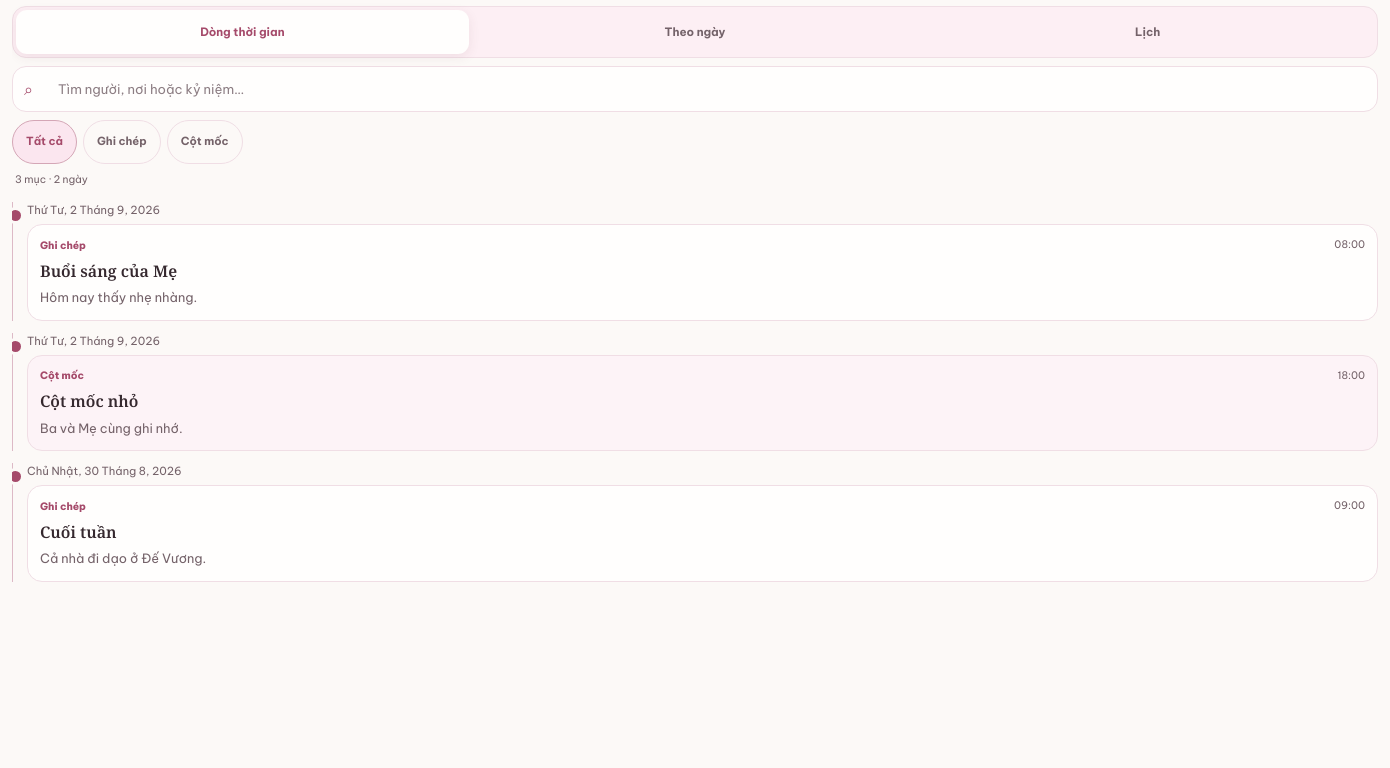
Test case: mobile journal browser › finds Vietnamese journal text and filters milestones without leaving the page
Expected: the text "3 mục · 2 ngày" is shown, [15,173,88,186]
Type "cuoi tuan" into the search field named "Tìm trong nhật ký".
click(716, 89); type("cuoi tuan")  # box [54,67,1377,111]
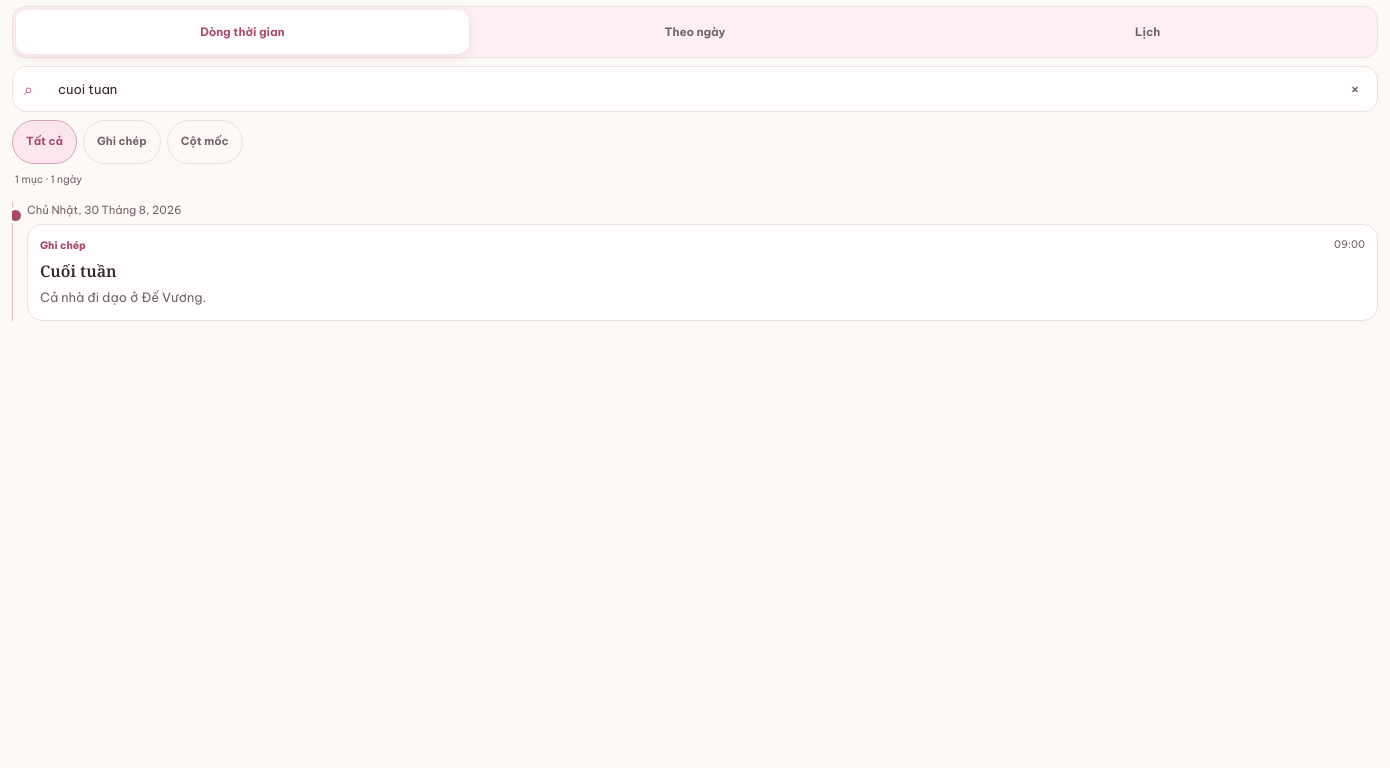
Expected: the text "Cuối tuần" is shown, [40,260,117,282]
Expected: the text "Buổi sáng của Mẹ" is gone
Click the button named "Xóa tìm kiếm".
click(1355, 89)  # box [1333,67,1377,111]
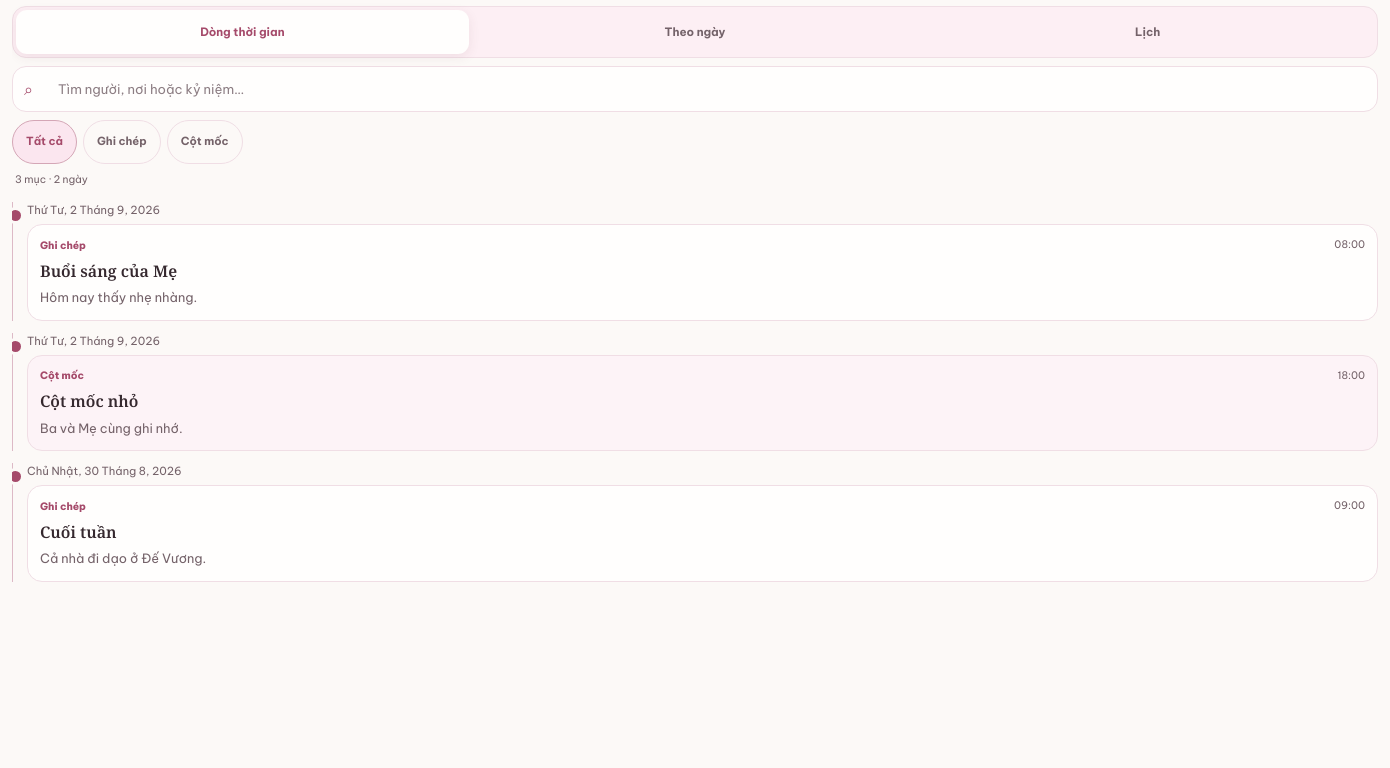
Type "de vuong" into the search field named "Tìm trong nhật ký".
click(716, 89); type("de vuong")  # box [54,67,1377,111]
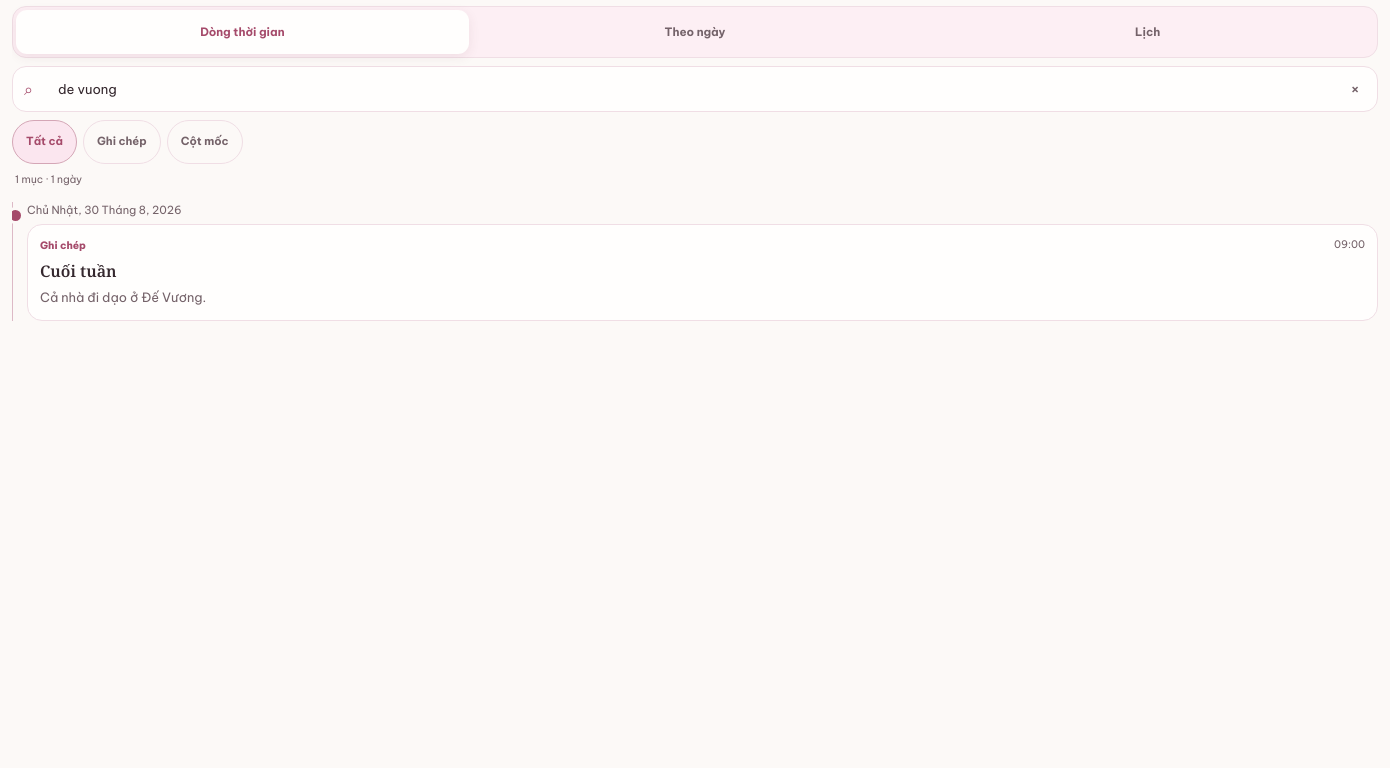
Expected: the text "Cuối tuần" is shown, [40,260,117,282]
Click the button named "Xóa tìm kiếm".
click(1355, 89)  # box [1333,67,1377,111]
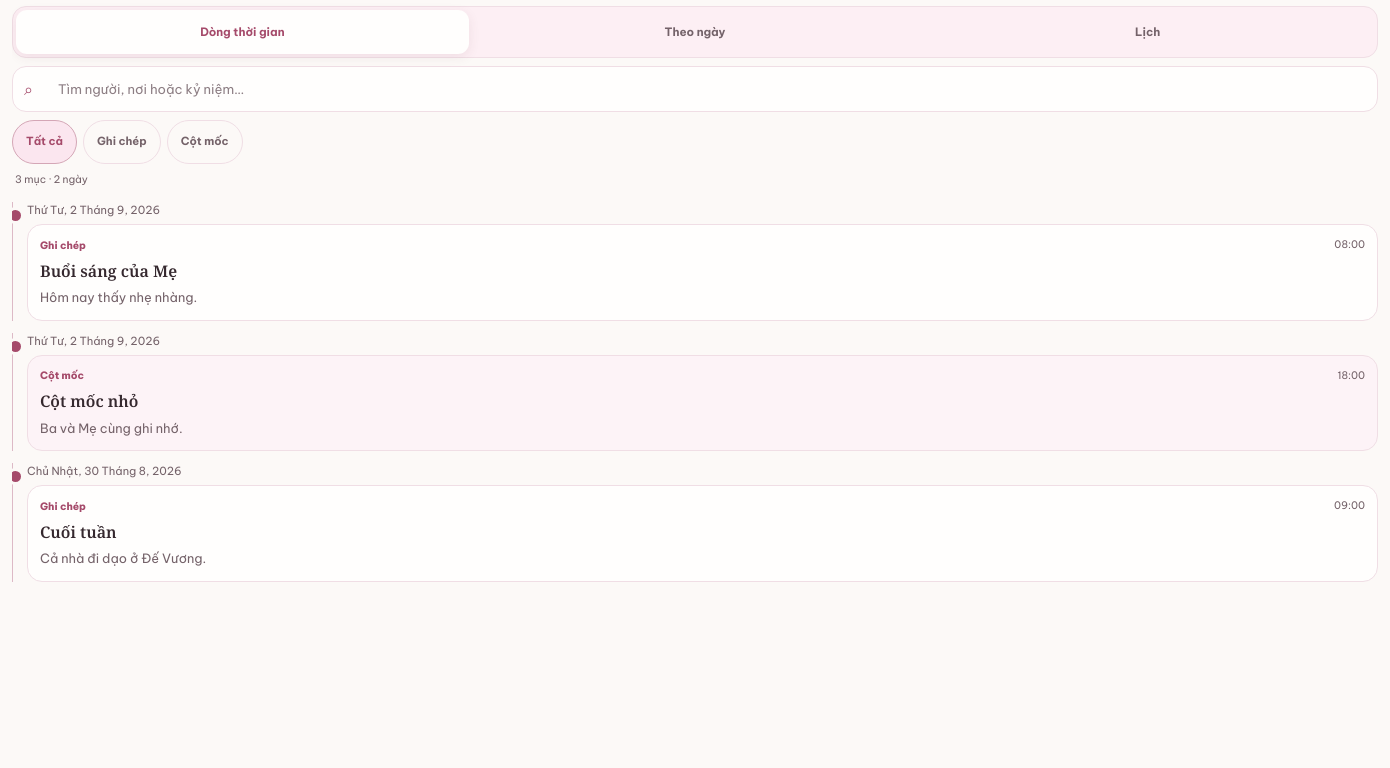
Click the button "Cột mốc".
click(205, 142)  # box [167,120,243,164]
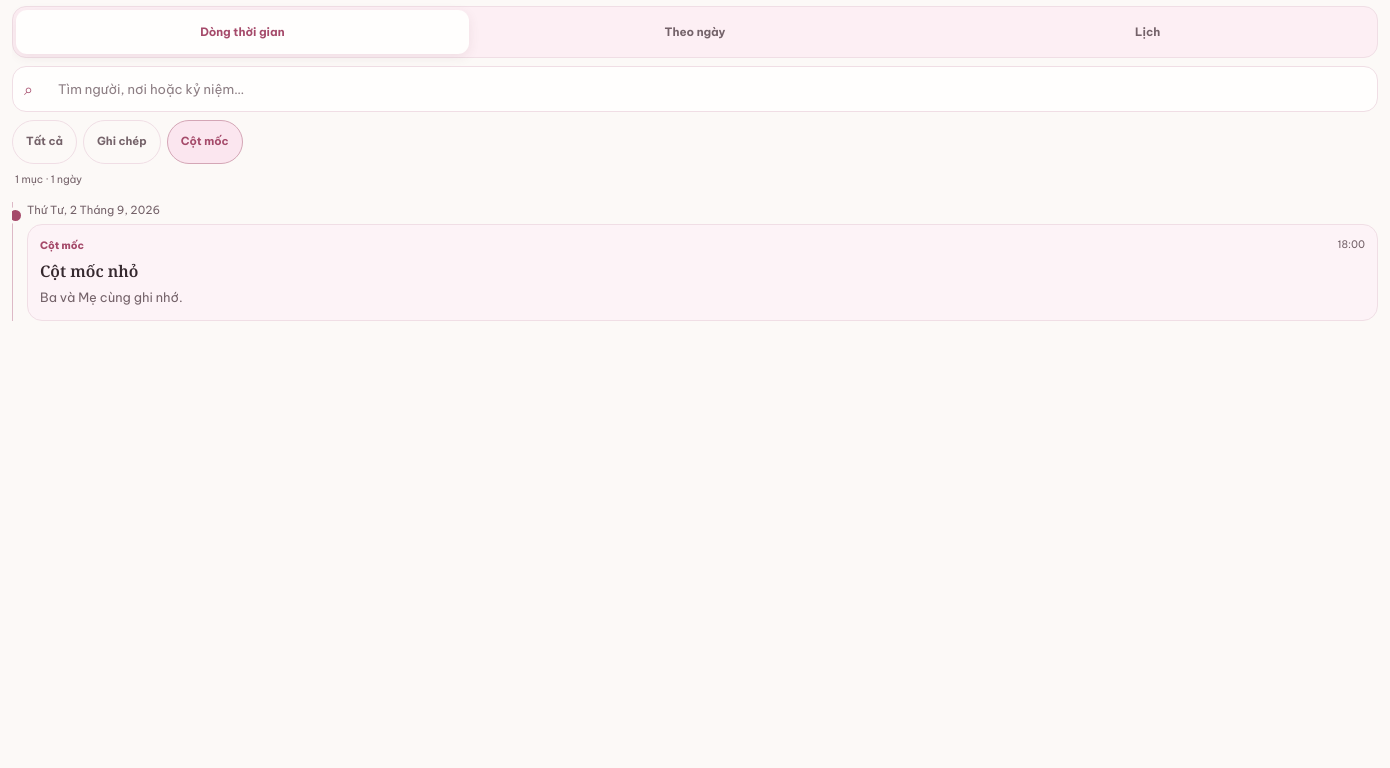
Expected: the text "Cột mốc nhỏ" is shown, [40,260,138,282]
Expected: the text "Cuối tuần" is gone
Expected: the text "1 mục · 1 ngày" is shown, [15,173,82,186]
